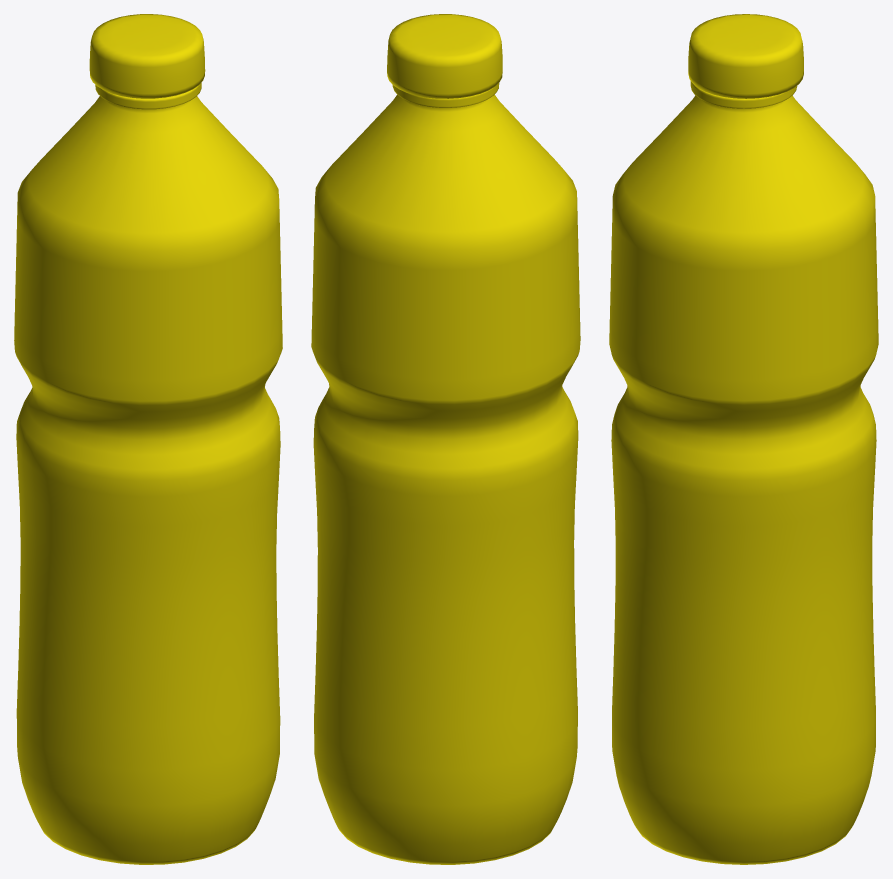
Rendered from Bottle.fbx.
The picture shows the model from 3 angles, left to right: view 1: azimuth 30°, elevation 25°; view 2: azimuth 150°, elevation 25°; view 3: azimuth 270°, elevation 25°; orthographic projection.
Visible parts, largest first — view 1: Bottle; view 2: Bottle; view 3: Bottle.
Part boxes in pixels (left/top/right/bottom): Bottle: left=14, top=14, right=282, bottom=864; Bottle: left=311, top=14, right=580, bottom=864; Bottle: left=609, top=14, right=878, bottom=864.
Bounding box in the file's own units: 54.68 × 176 × 54.68.
